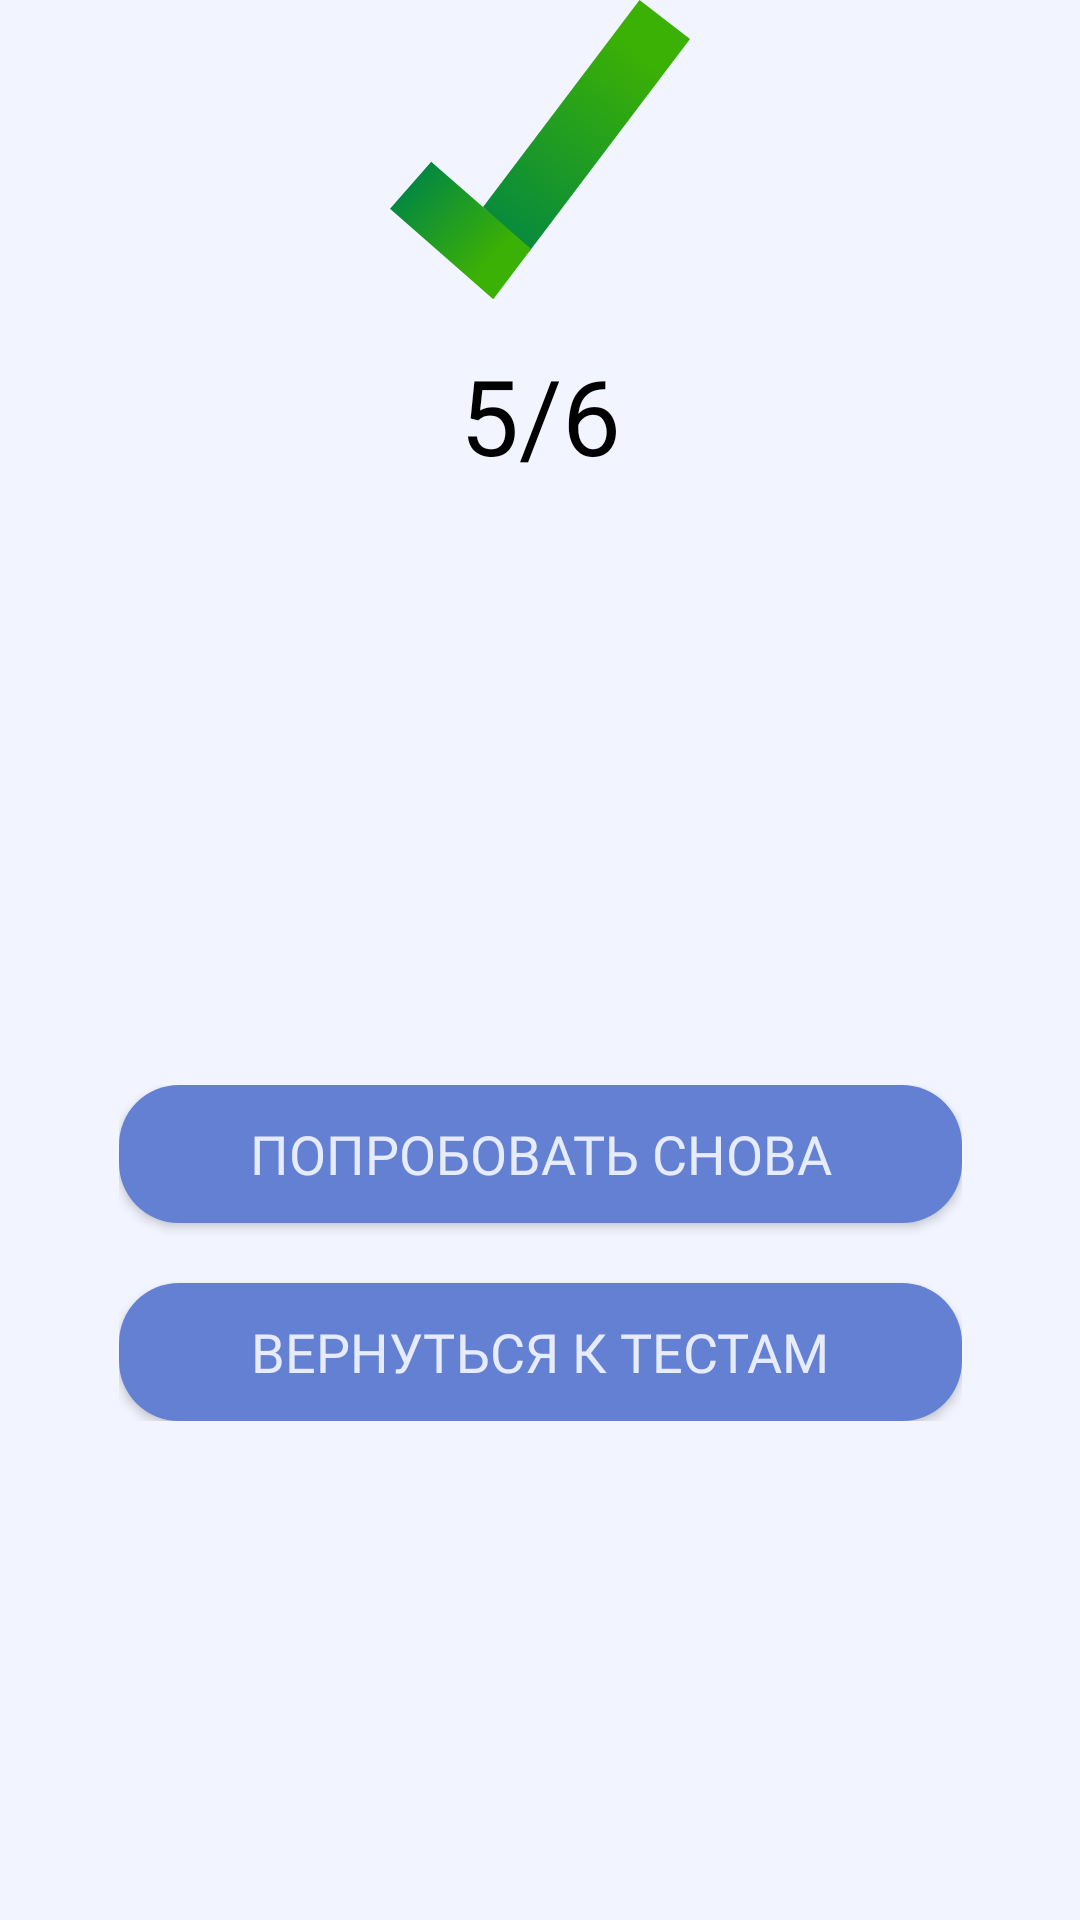

Named icons in this screenshot (1080*1920) and their centers, [x,y]:
gal: [540,149]
